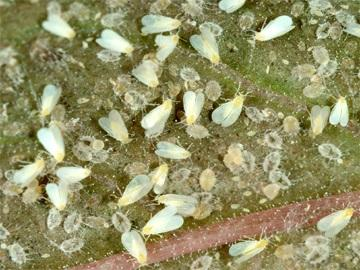whitefly: (317, 198, 358, 238), (211, 87, 249, 127), (142, 94, 176, 138), (250, 13, 297, 44), (230, 231, 274, 264), (139, 204, 184, 236), (190, 27, 226, 67), (114, 174, 153, 210), (99, 109, 131, 145), (95, 27, 136, 55), (154, 194, 197, 219), (38, 125, 66, 162), (12, 157, 44, 187), (41, 15, 78, 40), (122, 229, 146, 267), (139, 13, 180, 35), (181, 90, 206, 126), (155, 140, 194, 163), (145, 162, 171, 195), (39, 85, 64, 117), (134, 62, 161, 89), (329, 92, 350, 126), (309, 104, 331, 136), (56, 166, 90, 186), (154, 34, 179, 61), (46, 182, 68, 210)
